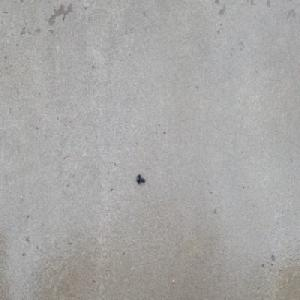BoltWasher: (136, 173, 145, 184)
